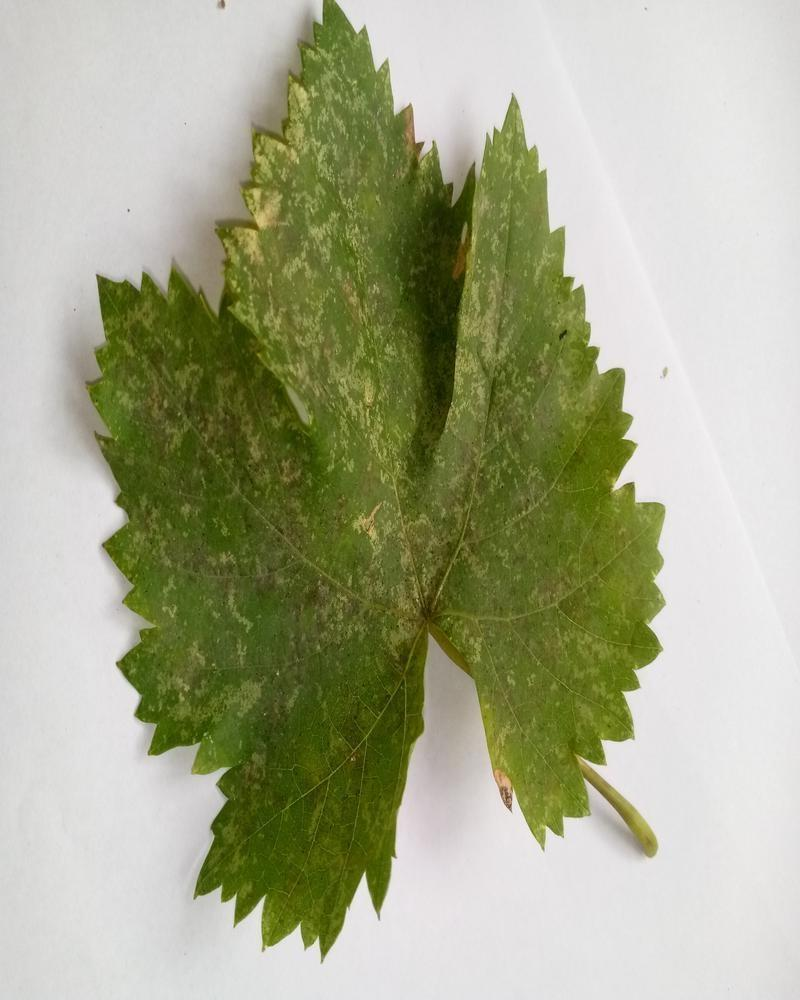Powdery-Mildew: (301, 404, 537, 650), (452, 135, 591, 415), (106, 293, 284, 492), (239, 212, 406, 388), (138, 536, 279, 713), (252, 63, 375, 243)
